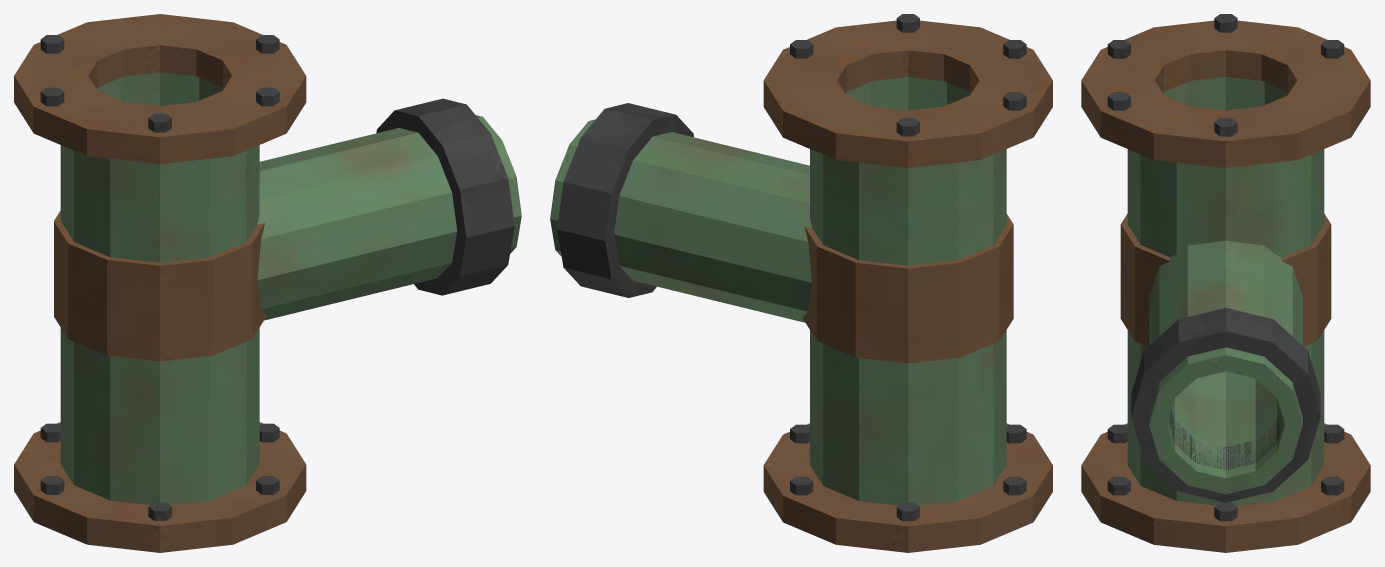
Rendered from D26_pipe_pieces_v3.glb.
The picture shows the model from 3 angles, left to right: view 1: azimuth 30°, elevation 25°; view 2: azimuth 150°, elevation 25°; view 3: azimuth 270°, elevation 25°; orthographic projection.
Parts seen in each view (by area): view 1: Green upright; view 2: Green upright; view 3: Green upright.
Part boxes in pixels (x1,y1,x2,y2): Green upright: (14, 14, 521, 552); Green upright: (550, 14, 1052, 552); Green upright: (1081, 14, 1370, 552).
Bounding box in the file's own units: 1 × 0.9054 × 0.5629.
3 materials, 3 textured.
